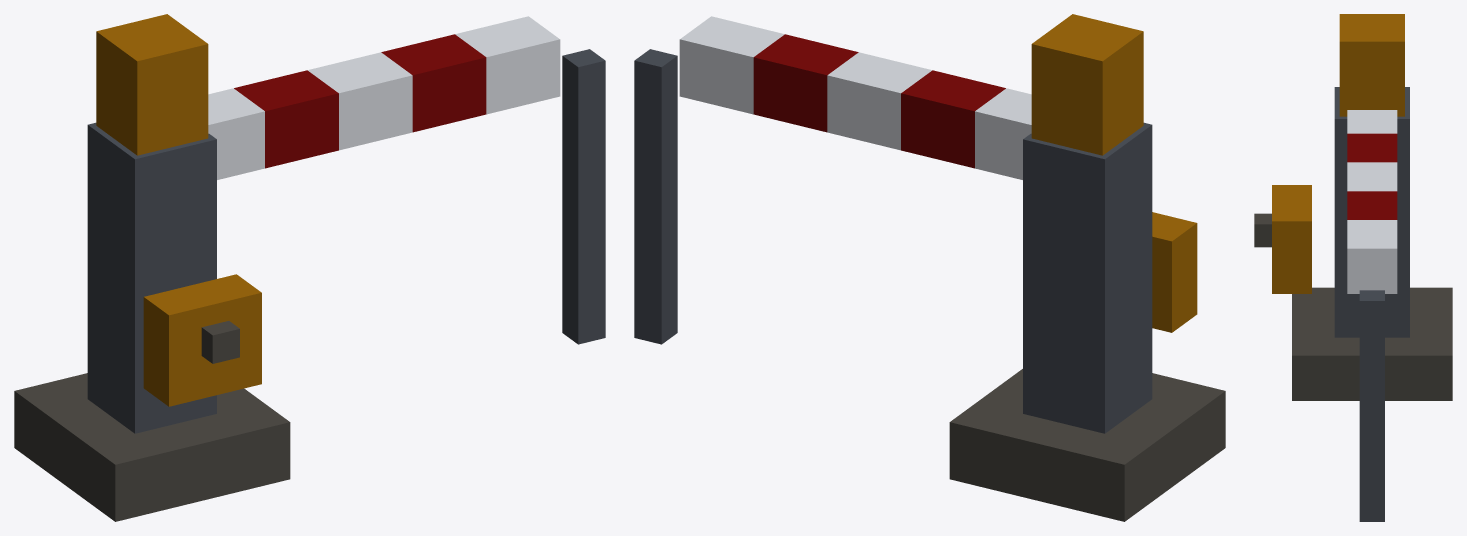
Rendered from Peaje_low.fbx.
3 views of the same model, side by side, from view 1: azimuth 30°, elevation 25°; view 2: azimuth 150°, elevation 25°; view 3: azimuth 270°, elevation 25° (orthographic). The views are drawn at different scales.
Parts seen in each view (by area): view 1: Peaje_low; view 2: Peaje_low; view 3: Peaje_low.
Boxes of the visible parts, x1,y1,x2,y2 form: Peaje_low: [14, 14, 605, 521]; Peaje_low: [634, 14, 1225, 521]; Peaje_low: [1254, 14, 1452, 521].
Bounding box in the file's own units: 97.5 × 74.5 × 39.5.
